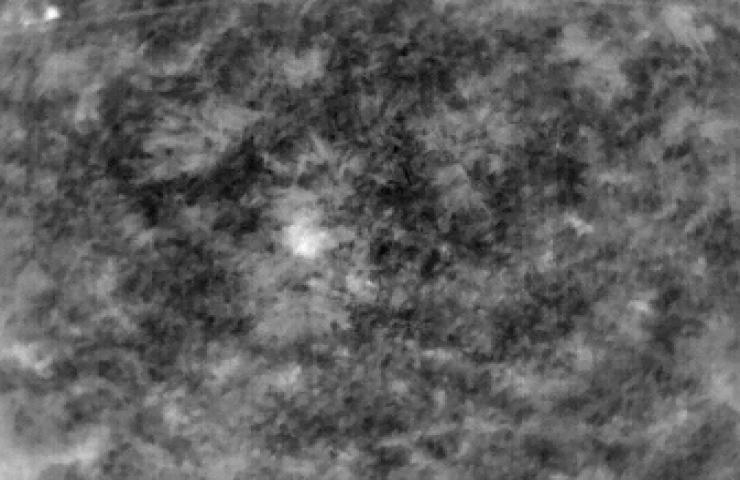landmines: (287, 222, 329, 259)
